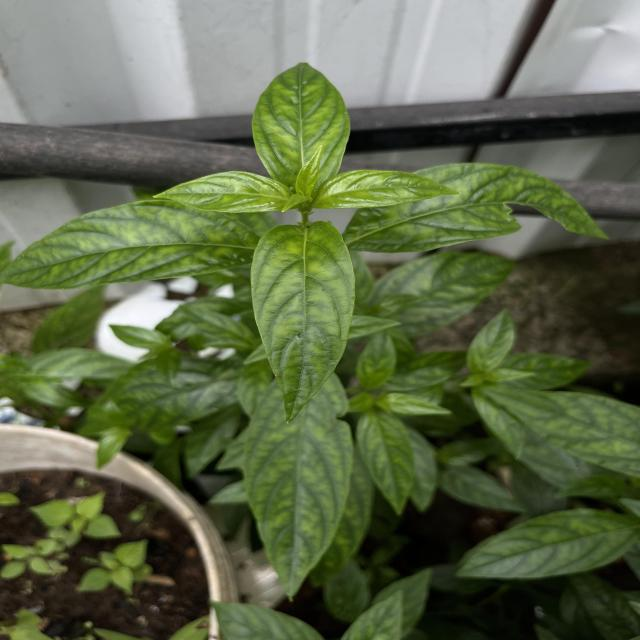Andrographis paniculata: (239, 379, 357, 601), (347, 160, 612, 254), (0, 198, 257, 292), (248, 220, 358, 426), (451, 505, 640, 581), (249, 60, 354, 191), (368, 250, 517, 340), (355, 409, 415, 516), (314, 168, 464, 210), (150, 170, 292, 214), (464, 308, 517, 372), (356, 329, 396, 392)
